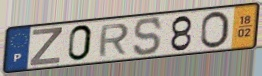0: (66, 24, 93, 63)
8: (170, 14, 193, 52)
O: (198, 10, 230, 50)
R: (97, 22, 131, 59)
S: (133, 16, 164, 57)
Z: (28, 26, 65, 67)
